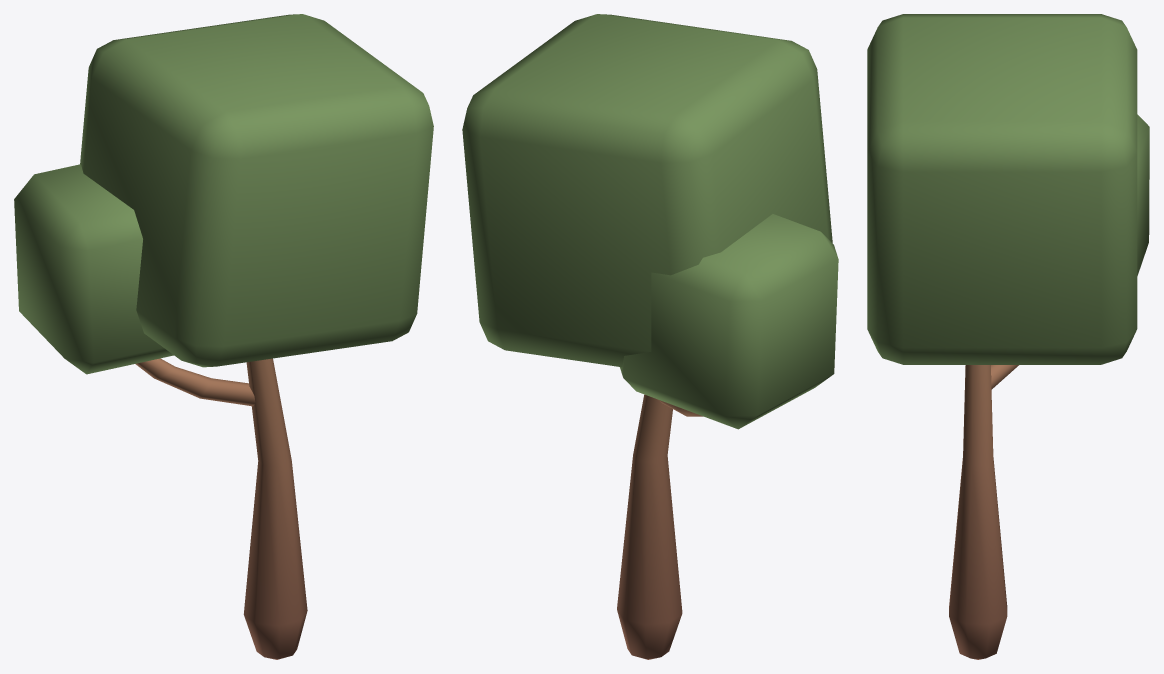
File: meadow-tree-tiered.glb
3 views of the same model, side by side, from view 1: azimuth 30°, elevation 25°; view 2: azimuth 150°, elevation 25°; view 3: azimuth 270°, elevation 25° (orthographic). The views are drawn at different scales.
Parts seen in each view (by area): view 1: Meadow tiered; view 2: Meadow tiered; view 3: Meadow tiered.
Boxes of the visible parts, bbox=[...] form: Meadow tiered: bbox=[14, 14, 433, 659]; Meadow tiered: bbox=[462, 14, 838, 659]; Meadow tiered: bbox=[867, 14, 1149, 659].
Size of the model in its own units: 2.6 by 4.67 by 2.
